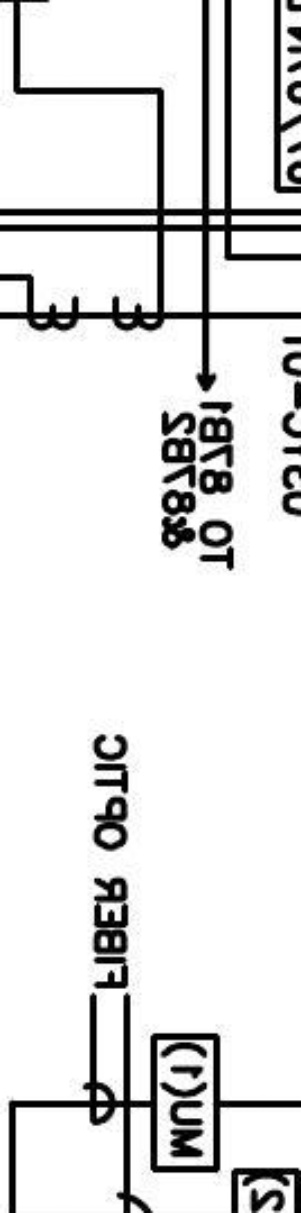MU: (149, 1032, 221, 1173)
